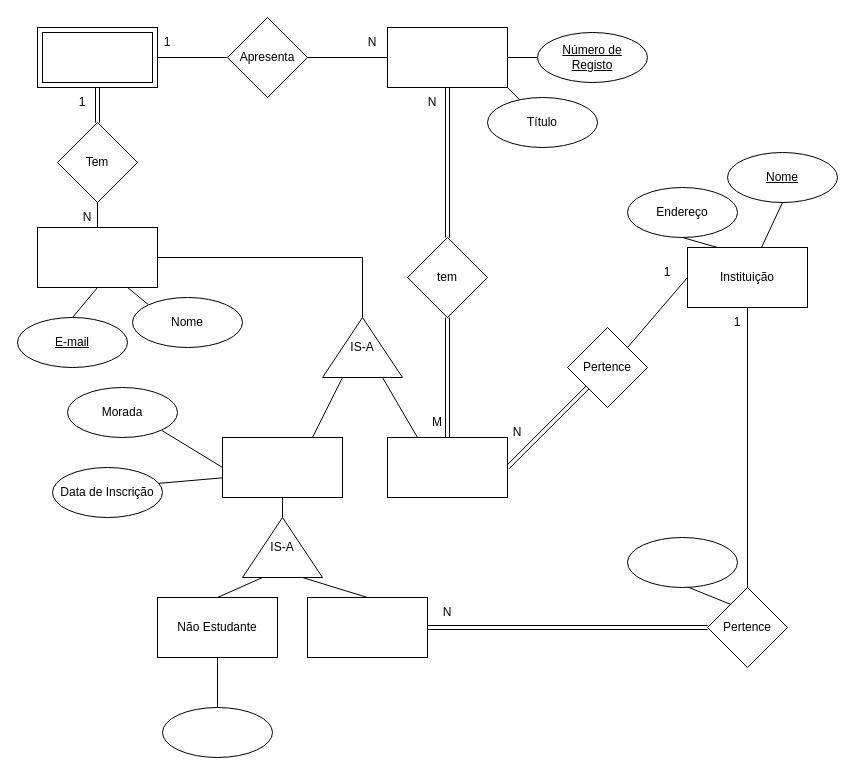
The diagram is 855 pixels wide and 775 high, and some of its shapes have lost their labels. The shapes that lost their labels are listed below. From the top down, each one's box as (x1, y1, x2, y2) in pixels, then its label:
(36, 26, 158, 88): Conferência
(386, 26, 508, 88): Artigo Científico
(36, 226, 158, 288): Pessoa
(222, 436, 342, 498): Participante
(386, 436, 508, 498): Autor
(626, 536, 738, 588): Comprovativo de Inscrição
(306, 596, 428, 658): Estudante
(162, 706, 272, 758): Referência de Transação
